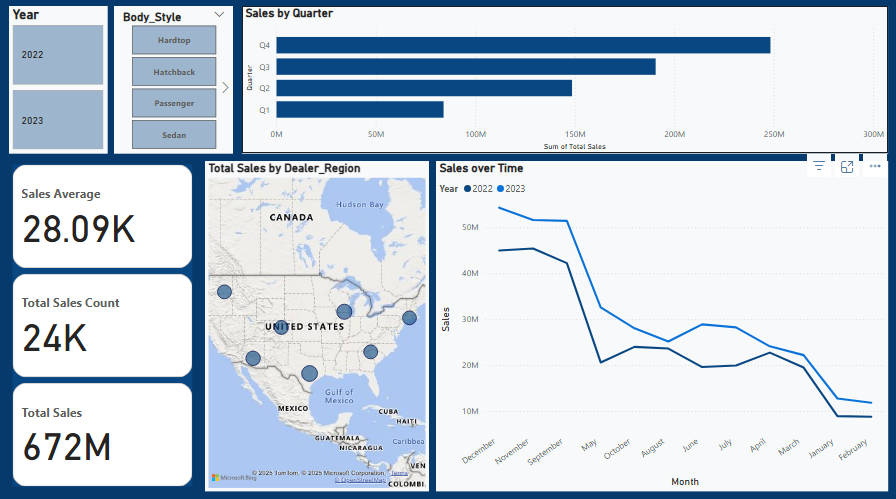

What the dashboard file says about the page in this screenshot:
{"tool":"powerbi","page":{"name":"Sales Overview","canvas":[1280,720],"ordinal":1},"visuals":[{"type":"cardVisual","fields":{"Data":["Fact_Sales.Sales Average","Fact_Sales.Total Sales Count","Sum(Fact_Sales.Price)"]},"box":[12.2,232.7,267.9,471.6],"z":0},{"type":"lineChart","title":"Sales over Time","fields":{"Category":["Dim_Date.Month"],"Y":["Sum(Fact_Sales.Price)"],"Series":["Dim_Date.Year"]},"box":[623.2,232.7,646.1,471.6],"z":3000},{"type":"barChart","title":"Sales by Quarter","fields":{"Category":["Dim_Date.Quarter"],"Y":["Sum(Fact_Sales.Price)"]},"box":[453.2,10.7,816.1,211.3],"z":4000},{"type":"map","fields":{"Category":["Dim_Dealer.Dealer_Region"],"Size":["Sum(Fact_Sales.Price)"]},"box":[292.4,232.7,320,471.6],"z":5000},{"type":"slicer","fields":{"Values":["Dim_Car.Body_Style"]},"box":[163.8,10.7,278.7,211.3],"z":6000},{"type":"advancedSlicerVisual","fields":{"Values":["Dim_Date.Year"]},"box":[12.2,10.7,140.9,211.3],"z":7000}]}

Visuals, with their boxes in screenshot pixels (x1, y1, x2, y2), scaled from the page's 1280x720 canvas onto the 896x499 screenshot:
cardVisual - Fact_Sales.Sales Average x Fact_Sales.Total Sales Count: {"x1": 9, "y1": 161, "x2": 196, "y2": 488}
"Sales over Time" lineChart: {"x1": 436, "y1": 161, "x2": 889, "y2": 488}
"Sales by Quarter" barChart: {"x1": 317, "y1": 7, "x2": 889, "y2": 154}
map - Dim_Dealer.Dealer_Region x Sum(Fact_Sales.Price): {"x1": 205, "y1": 161, "x2": 429, "y2": 488}
slicer - Dim_Car.Body_Style: {"x1": 115, "y1": 7, "x2": 310, "y2": 154}
advancedSlicerVisual - Dim_Date.Year: {"x1": 9, "y1": 7, "x2": 107, "y2": 154}
